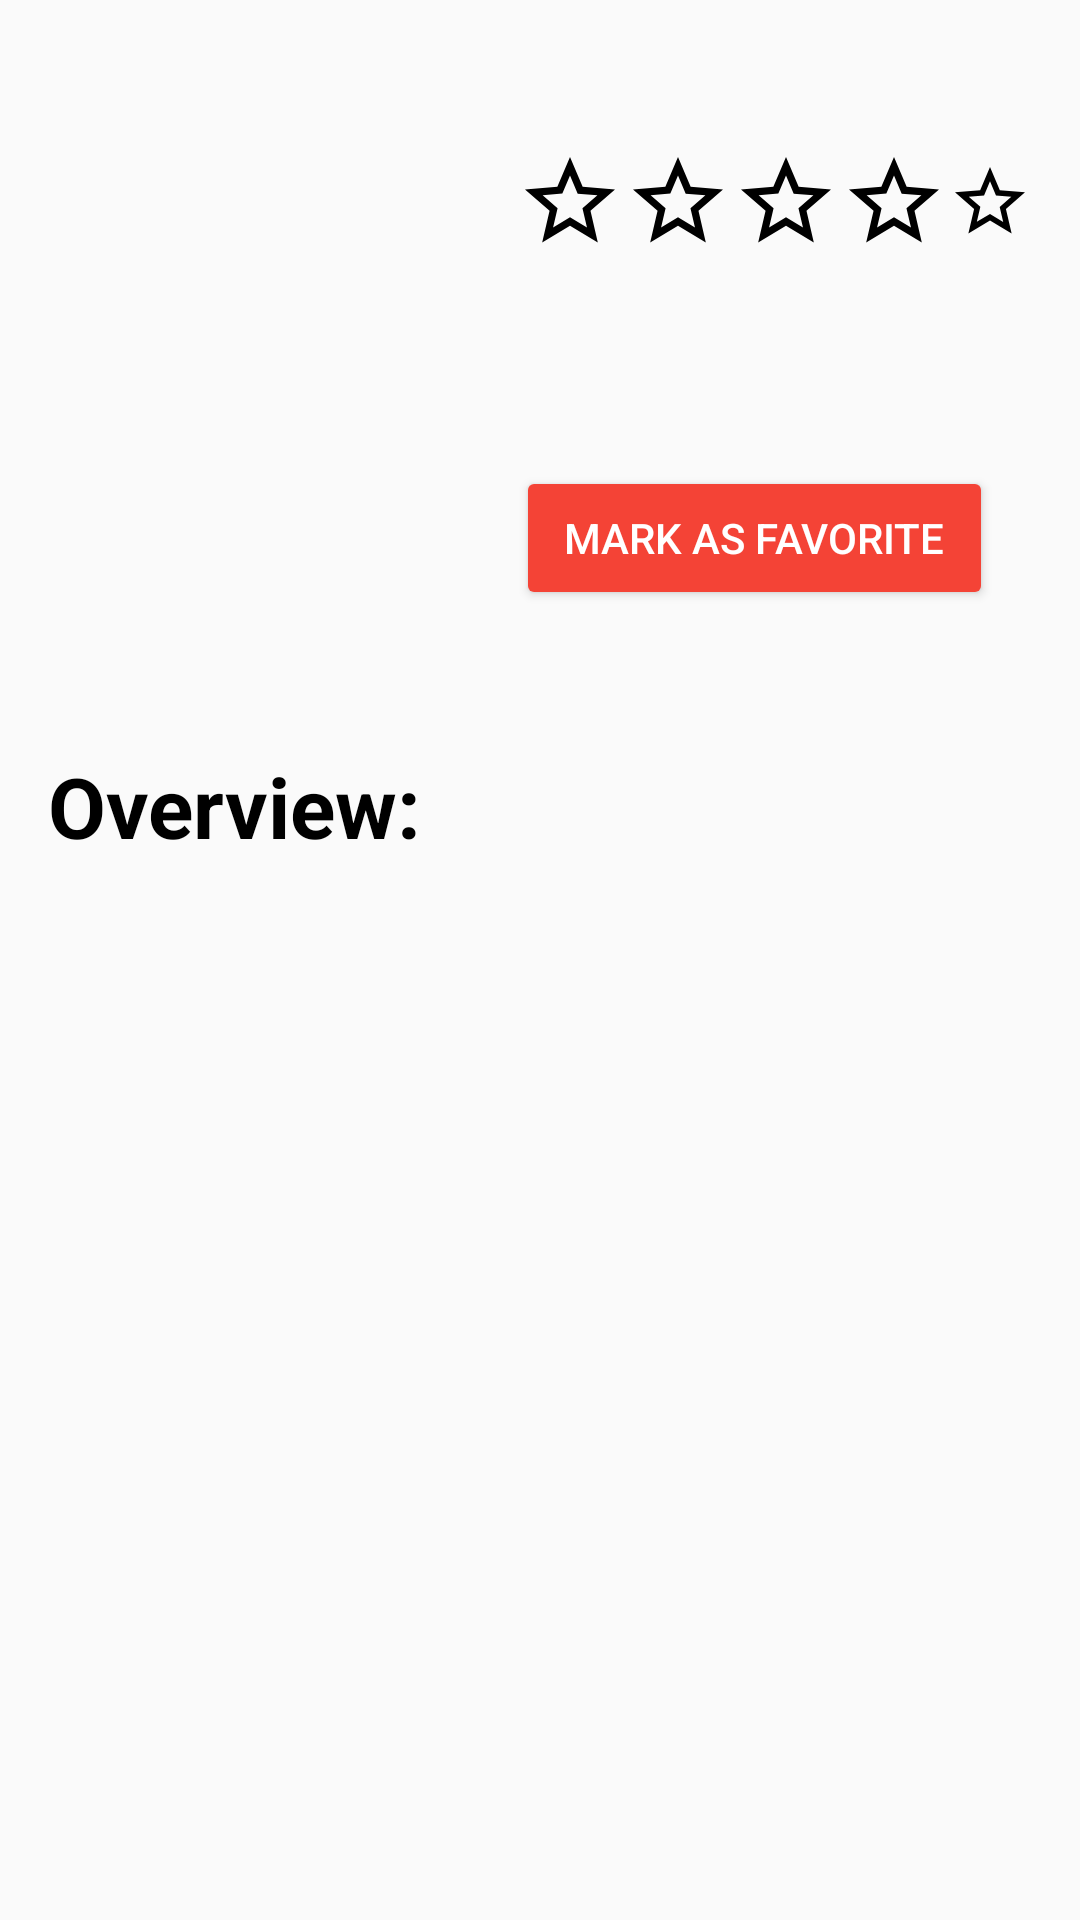

Where to tap for icons on this 1080px×1920px app screen, as (x=x, y=y):
star border: (x=570, y=200), (x=678, y=200), (x=786, y=200), (x=894, y=200), (x=990, y=200)
